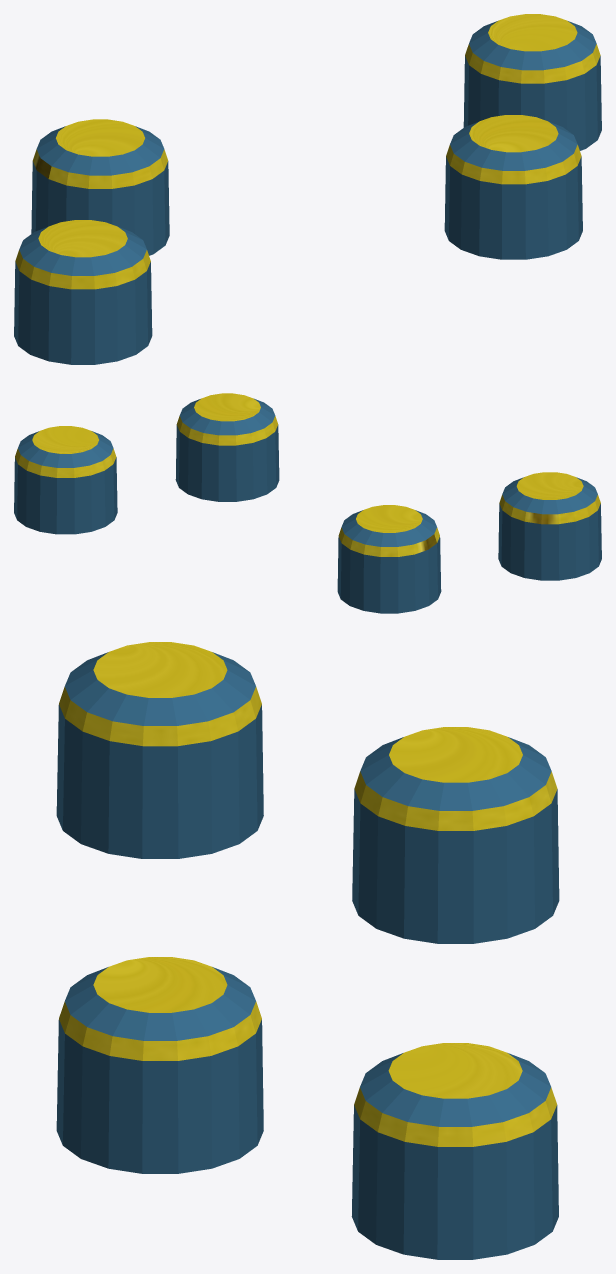
File: toposB.obj
3 views of the same model, one above another, from view 1: azimuth 30°, elevation 25°; view 2: azimuth 150°, elevation 25°; view 3: azimuth 270°, elevation 25° (orthographic). The views are drawn at different scales.
Parts seen in each view (by area): view 1: topos; view 2: topos; view 3: topos.
Boxes of the visible parts, x1,y1,x2,y2 form: topos: (14,14,601,364); topos: (14,393,601,613); topos: (56,642,559,1259).
Size of the model in its own units: 4.09 by 0.5715 by 1.78.
1 material, 1 textured.
